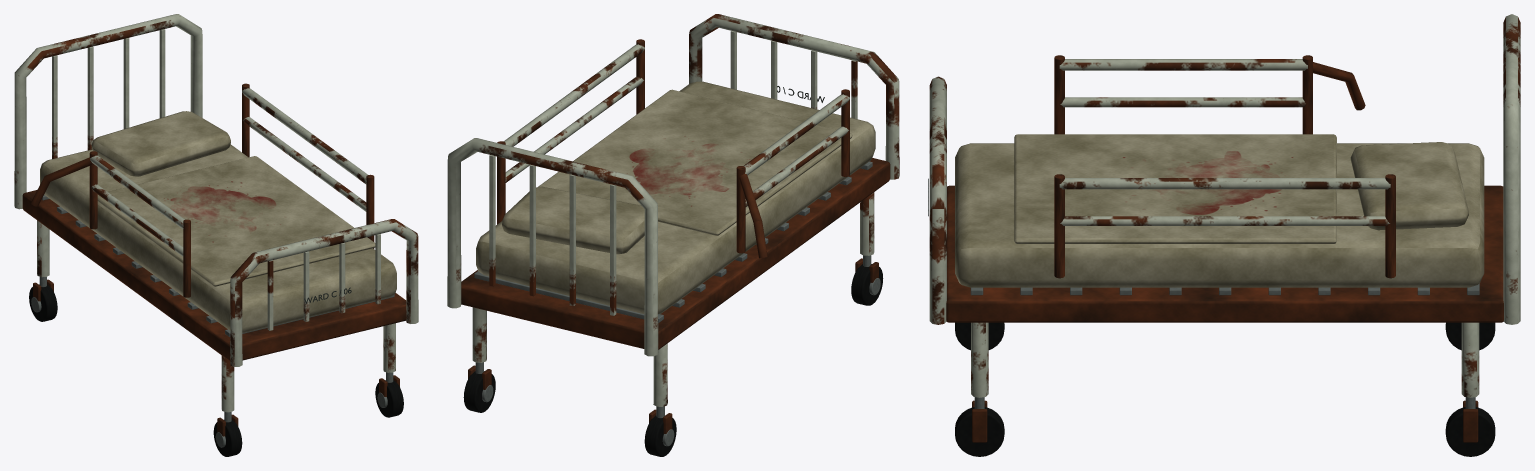
The model's file is hospital_bed.glb.
3 views of the same model, side by side, from view 1: azimuth 30°, elevation 25°; view 2: azimuth 150°, elevation 25°; view 3: azimuth 270°, elevation 25° (orthographic). The views are drawn at different scales.
Parts seen in each view (by area): view 1: Stained folded sheet, Sagging aged mattress, Bed spring frame, Flattened pillow, Bed head and foot frame.001, Bed head and foot frame, Mattress dried blood, Bed safety rail.001, Lower safety rail.001, Bed safety rail, Lower safety rail, Bed leg (+18 smaller); view 2: Stained folded sheet, Sagging aged mattress, Bed spring frame, Bed head and foot frame.001, Flattened pillow, Bed head and foot frame, Mattress dried blood, Bed safety rail.001, Lower safety rail.001, Bed safety rail, Lower safety rail, Exposed mattress support.010 (+15 smaller); view 3: Sagging aged mattress, Stained folded sheet, Bed spring frame, Flattened pillow, Bed head and foot frame.001, Bed head and foot frame, Bed safety rail.001, Lower safety rail.001, Bed safety rail, Lower safety rail, Mattress dried blood, Caster tyre.003 (+10 smaller).
Boxes of the visible parts, x1,y1,x2,y2 form: Stained folded sheet: (97, 156, 375, 286); Sagging aged mattress: (40, 144, 396, 333); Bed spring frame: (22, 190, 406, 360); Flattened pillow: (91, 111, 230, 176); Bed head and foot frame.001: (14, 14, 202, 209); Bed head and foot frame: (230, 219, 418, 366); Mattress dried blood: (164, 181, 280, 242); Bed safety rail.001: (242, 88, 367, 184); Lower safety rail.001: (243, 117, 366, 211); Bed safety rail: (90, 155, 184, 228); Lower safety rail: (90, 184, 183, 256); Bed leg: (221, 355, 234, 412); Stained folded sheet: (538, 89, 852, 235); Sagging aged mattress: (476, 81, 875, 314); Bed spring frame: (461, 158, 890, 349); Bed head and foot frame.001: (447, 138, 658, 356); Flattened pillow: (502, 186, 644, 254); Bed head and foot frame: (689, 14, 899, 179); Mattress dried blood: (627, 136, 749, 206); Bed safety rail.001: (503, 44, 644, 146); Lower safety rail.001: (505, 76, 643, 182); Bed safety rail: (744, 94, 849, 175); Lower safety rail: (745, 126, 848, 206); Exposed mattress support.010: (474, 271, 663, 322); Sagging aged mattress: (955, 143, 1484, 287); Stained folded sheet: (1014, 134, 1336, 243); Bed spring frame: (946, 185, 1503, 322); Flattened pillow: (1350, 142, 1468, 230); Bed head and foot frame.001: (1503, 14, 1520, 324); Bed head and foot frame: (929, 76, 946, 324); Bed safety rail.001: (1059, 178, 1390, 189); Lower safety rail.001: (1060, 216, 1389, 225); Bed safety rail: (1059, 59, 1307, 70); Lower safety rail: (1060, 97, 1307, 107); Mattress dried blood: (1123, 151, 1292, 214); Caster tyre.003: (1445, 407, 1495, 456).
Size of the model in its own units: 1.28 by 1.37 by 2.15.
Materials: 7 (6 with a texture image).
